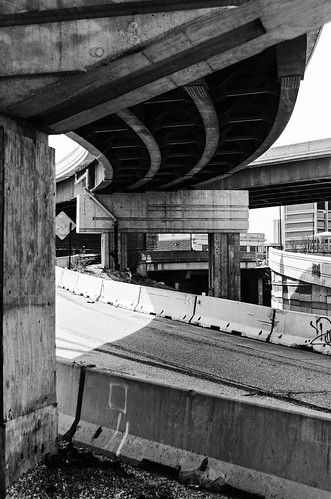bridge: (1, 1, 331, 247)
street: (52, 286, 331, 443)
